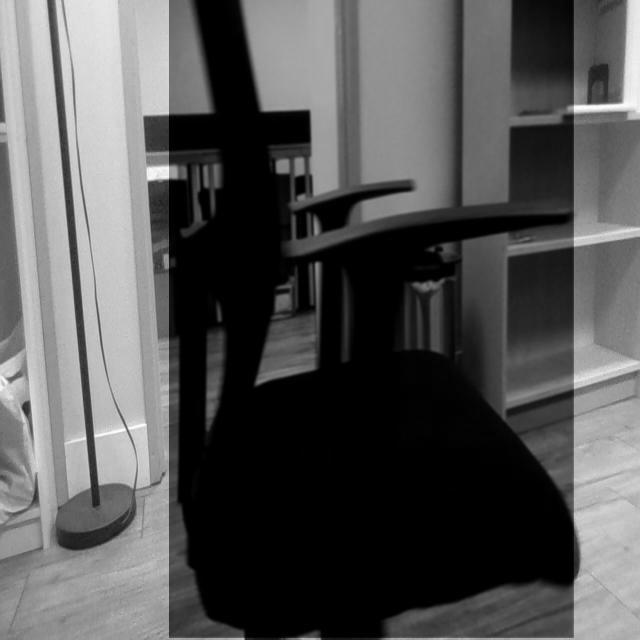chair: (169, 1, 575, 640)
